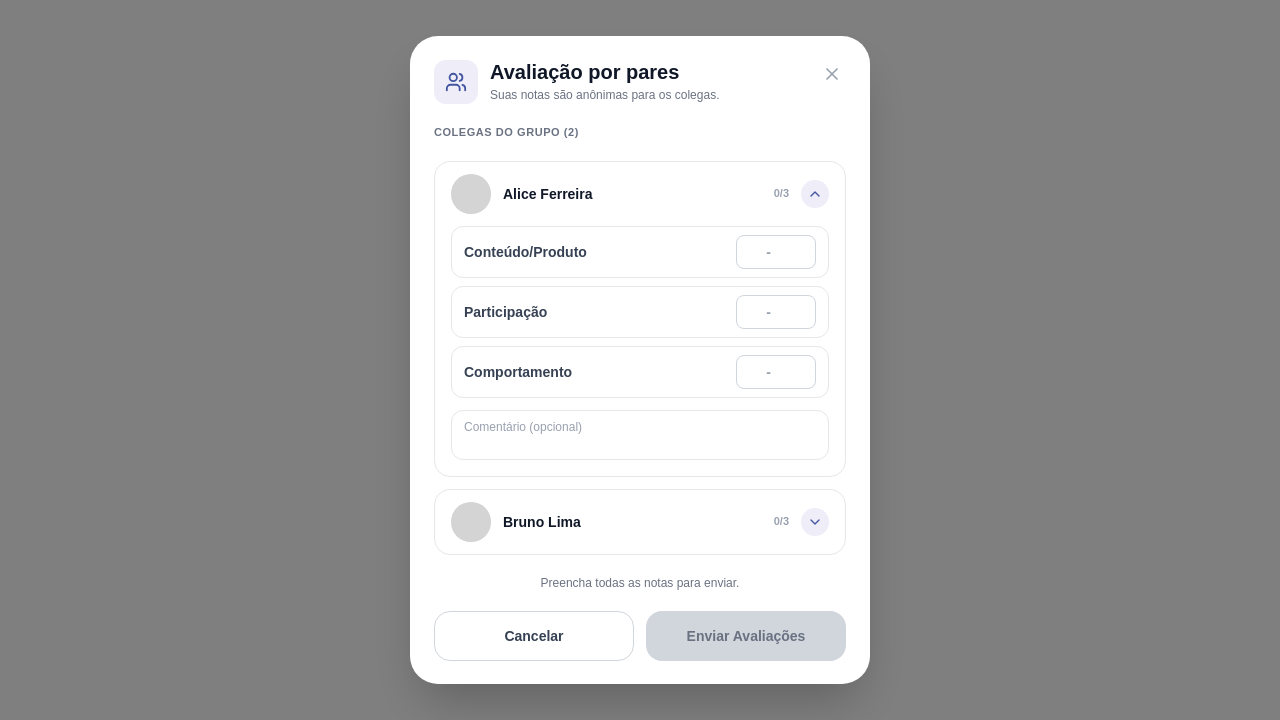
[US14] PeerEvaluationModal › Deve manter o envio desabilitado, com a dica, até todas as notas de todos os colegas estarem preenchidas
This screenshot has width=1280, height=720.
Expected: the button "Enviar Avaliações" is disabled, x1=646 y1=610 x2=846 y2=660
Expected: the text "Preencha todas as notas para enviar." is shown, x1=541 y1=576 x2=739 y2=590
Type "8" into the number field labelled "Conteúdo/Produto" at (776, 252), box x1=736 y1=234 x2=816 y2=268
Type "9" into the number field labelled "Participação" at (776, 312), box x1=736 y1=294 x2=816 y2=328
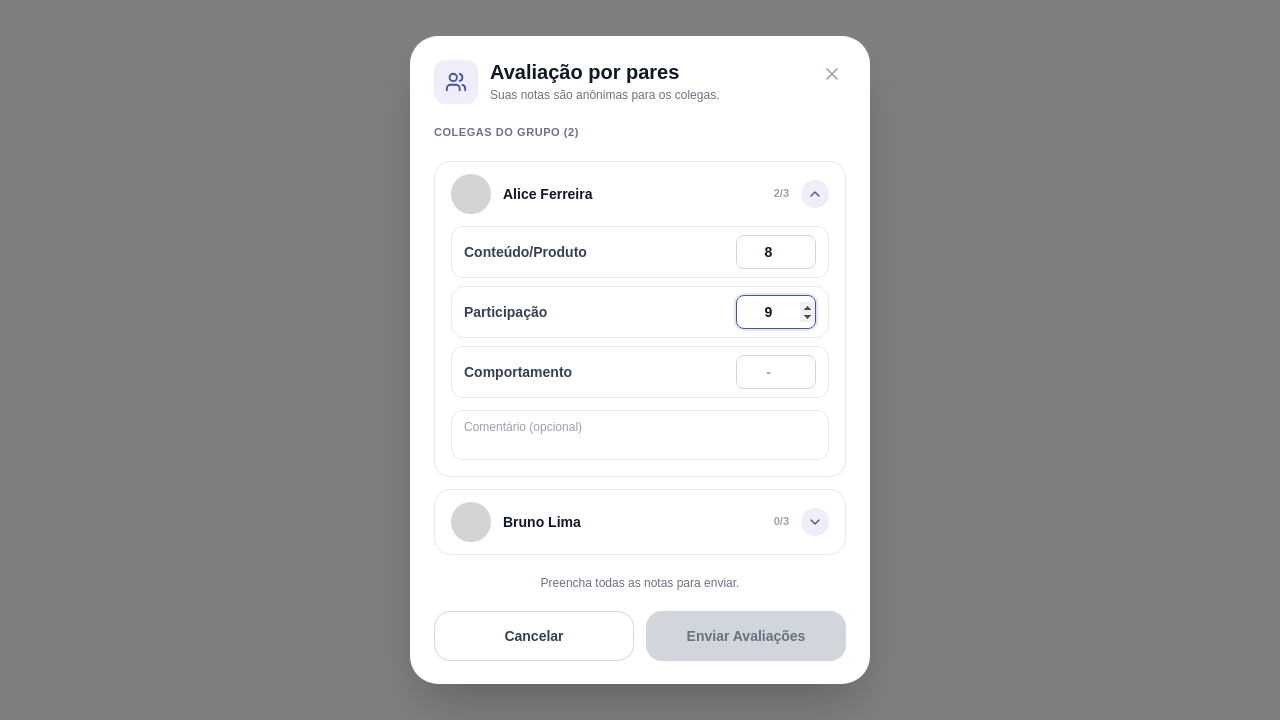
Type "7" into the number field labelled "Comportamento" at (776, 372), box x1=736 y1=354 x2=816 y2=388
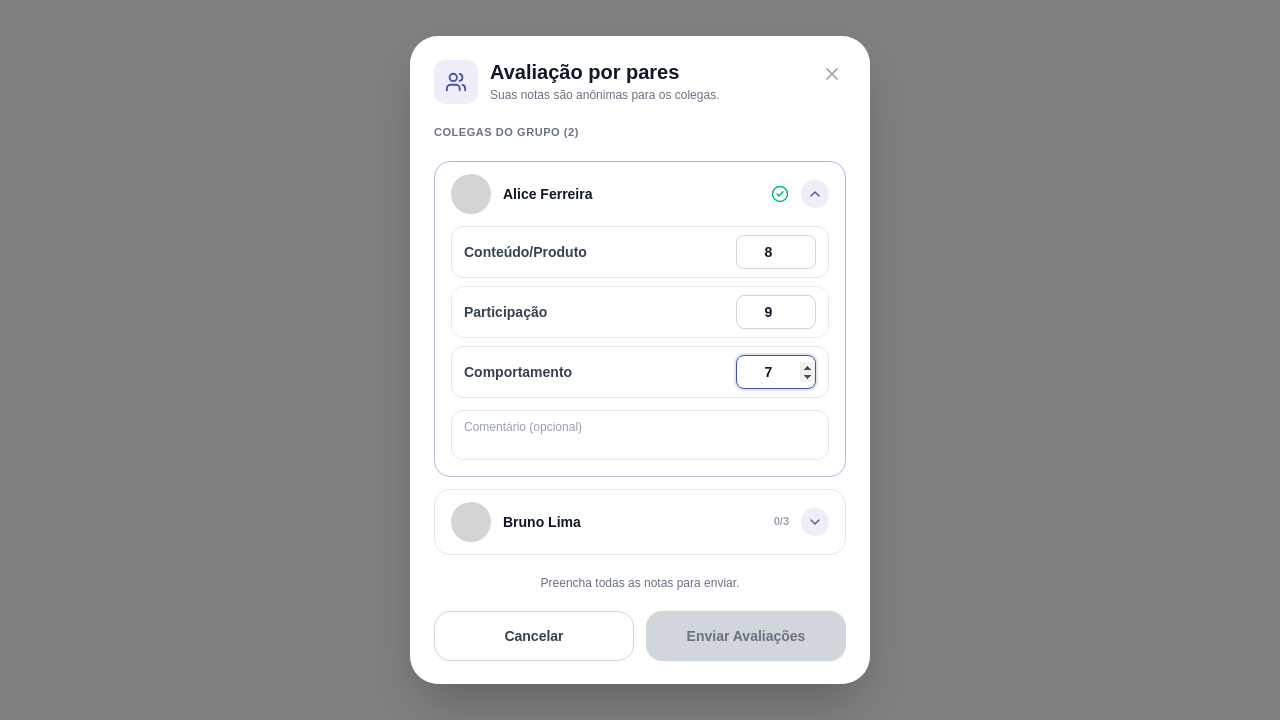
Expected: the button "Enviar Avaliações" is disabled, x1=646 y1=610 x2=846 y2=660
Now the icon named "Notas completas" is shown, box x1=771 y1=184 x2=789 y2=202
Click the button "Bruno Lima 0/3" at (471, 522), box x1=435 y1=490 x2=845 y2=554
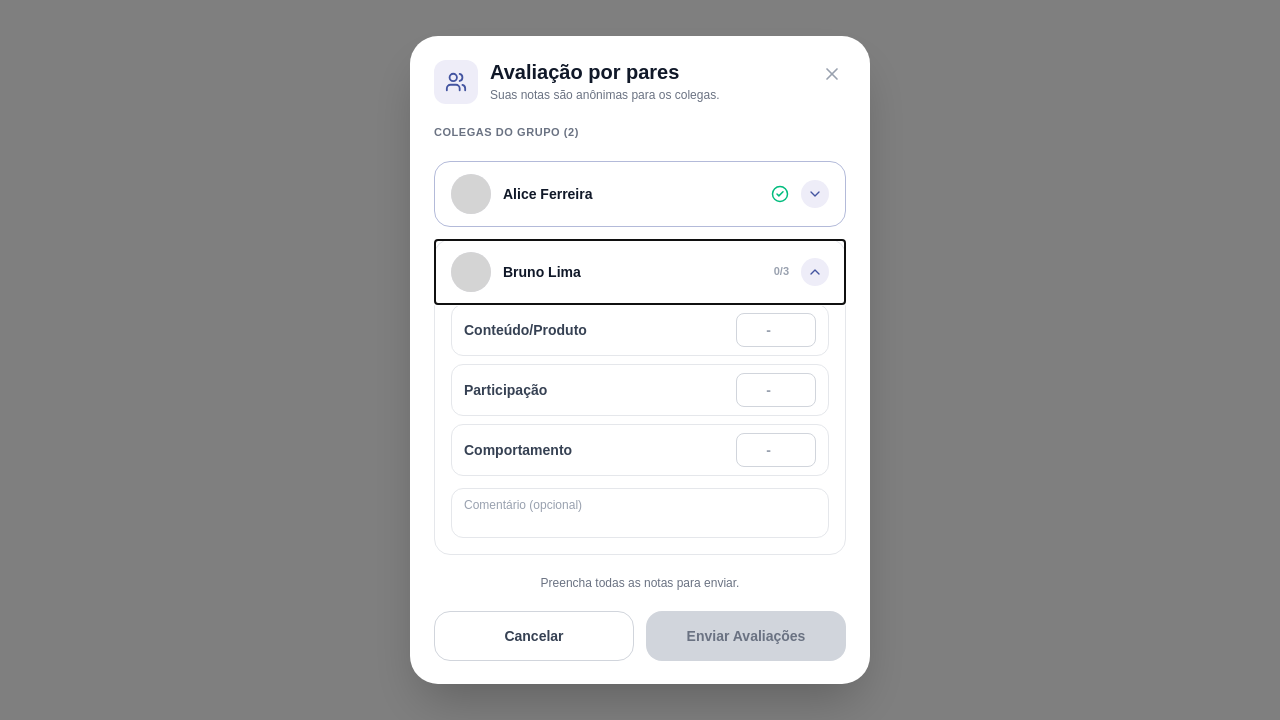
Type "6" into the number field labelled "Conteúdo/Produto" at (776, 330), box x1=736 y1=312 x2=816 y2=346
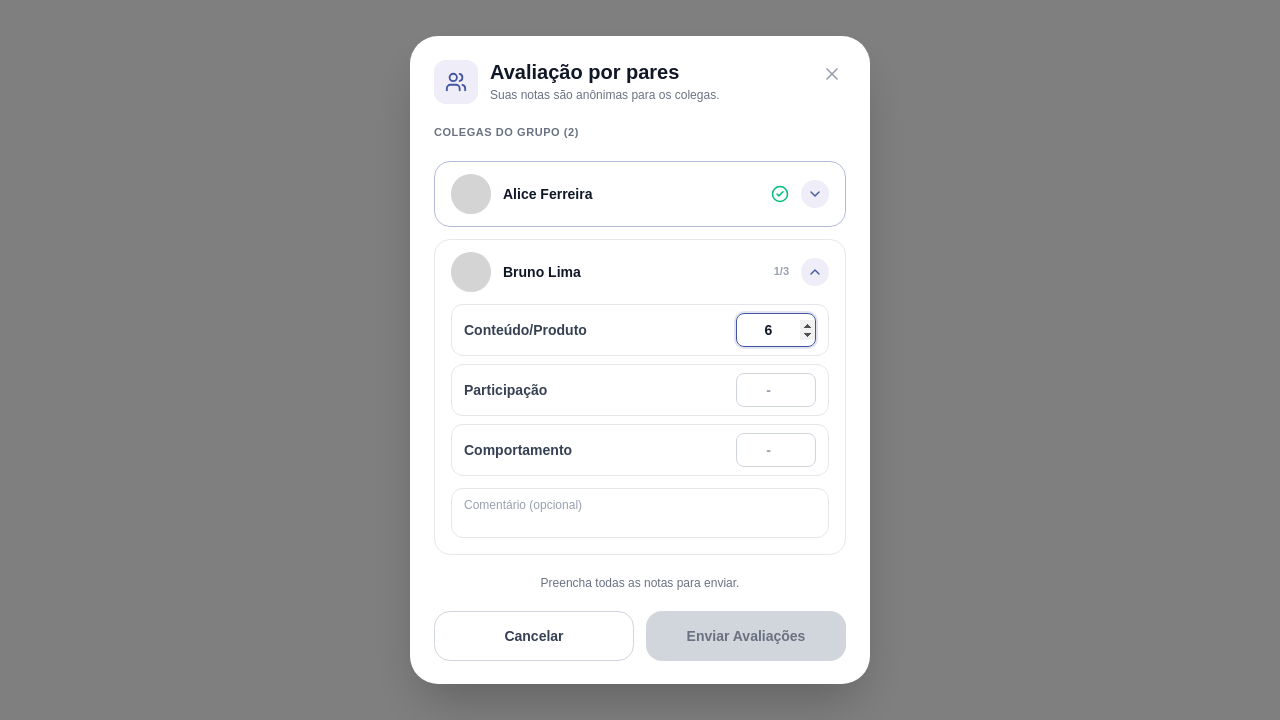
Type "10" into the number field labelled "Participação" at (776, 390), box x1=736 y1=372 x2=816 y2=406
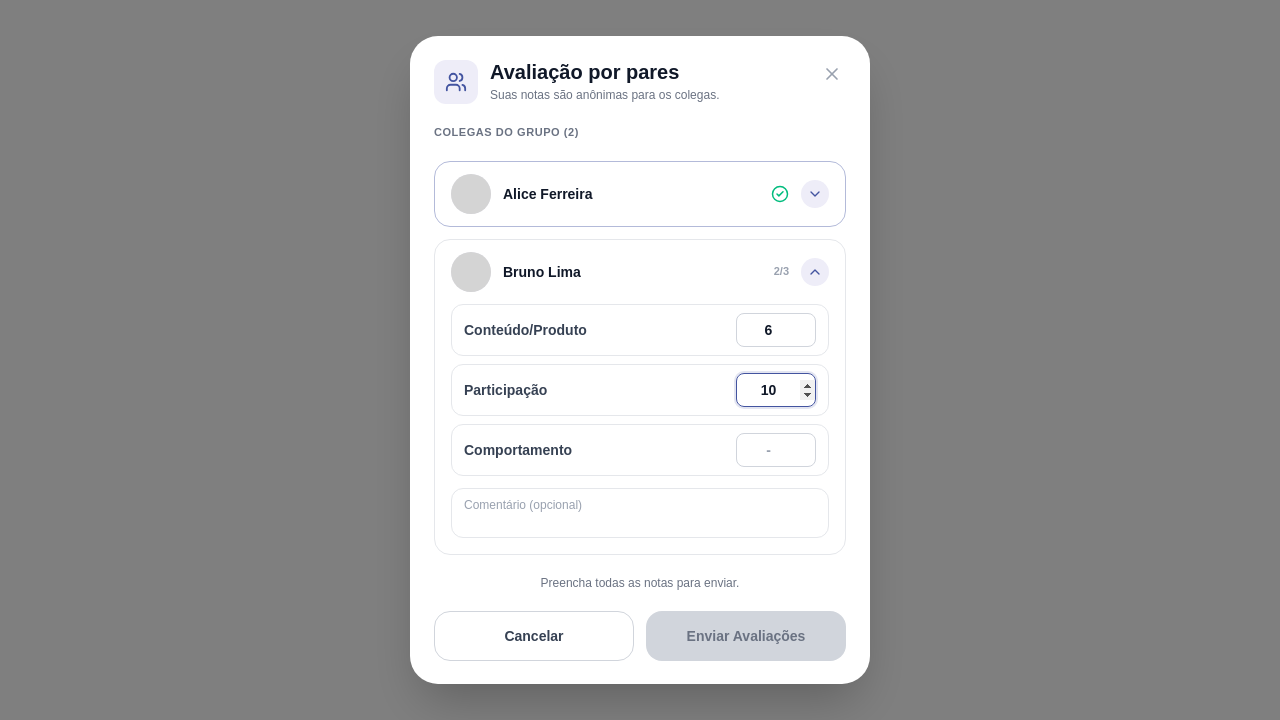
Expected: the button "Enviar Avaliações" is disabled, x1=646 y1=610 x2=846 y2=660
Now the text "2/3" is shown, box x1=774 y1=263 x2=789 y2=280
Type "5" into the number field labelled "Comportamento" at (776, 450), box x1=736 y1=432 x2=816 y2=466
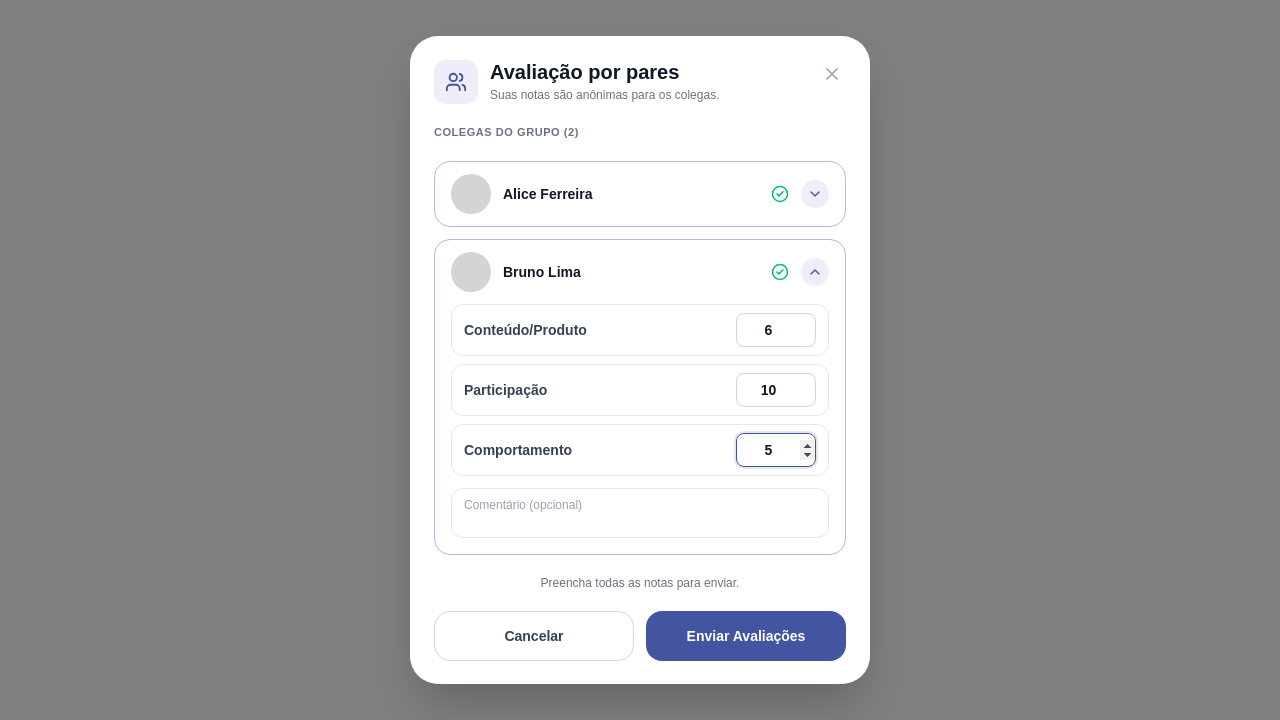
Now the button "Enviar Avaliações" is enabled, box x1=646 y1=610 x2=846 y2=660
